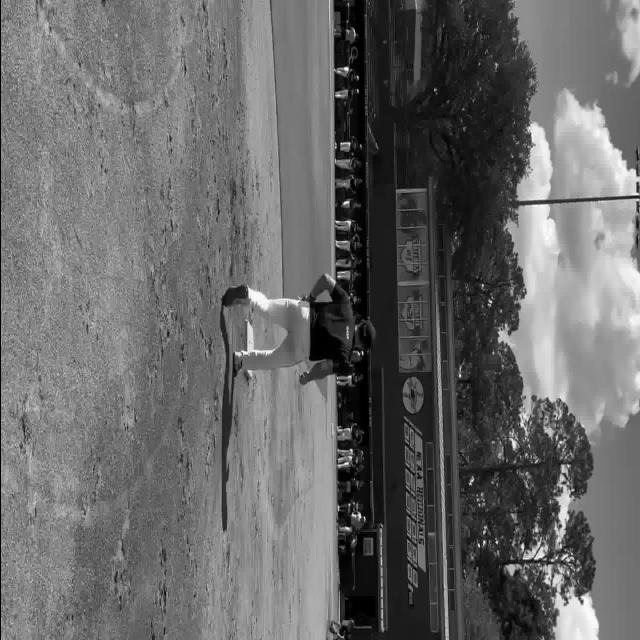base: (244, 320, 252, 351), (245, 371, 252, 382)
shoe: (221, 284, 249, 307), (232, 351, 241, 378)
